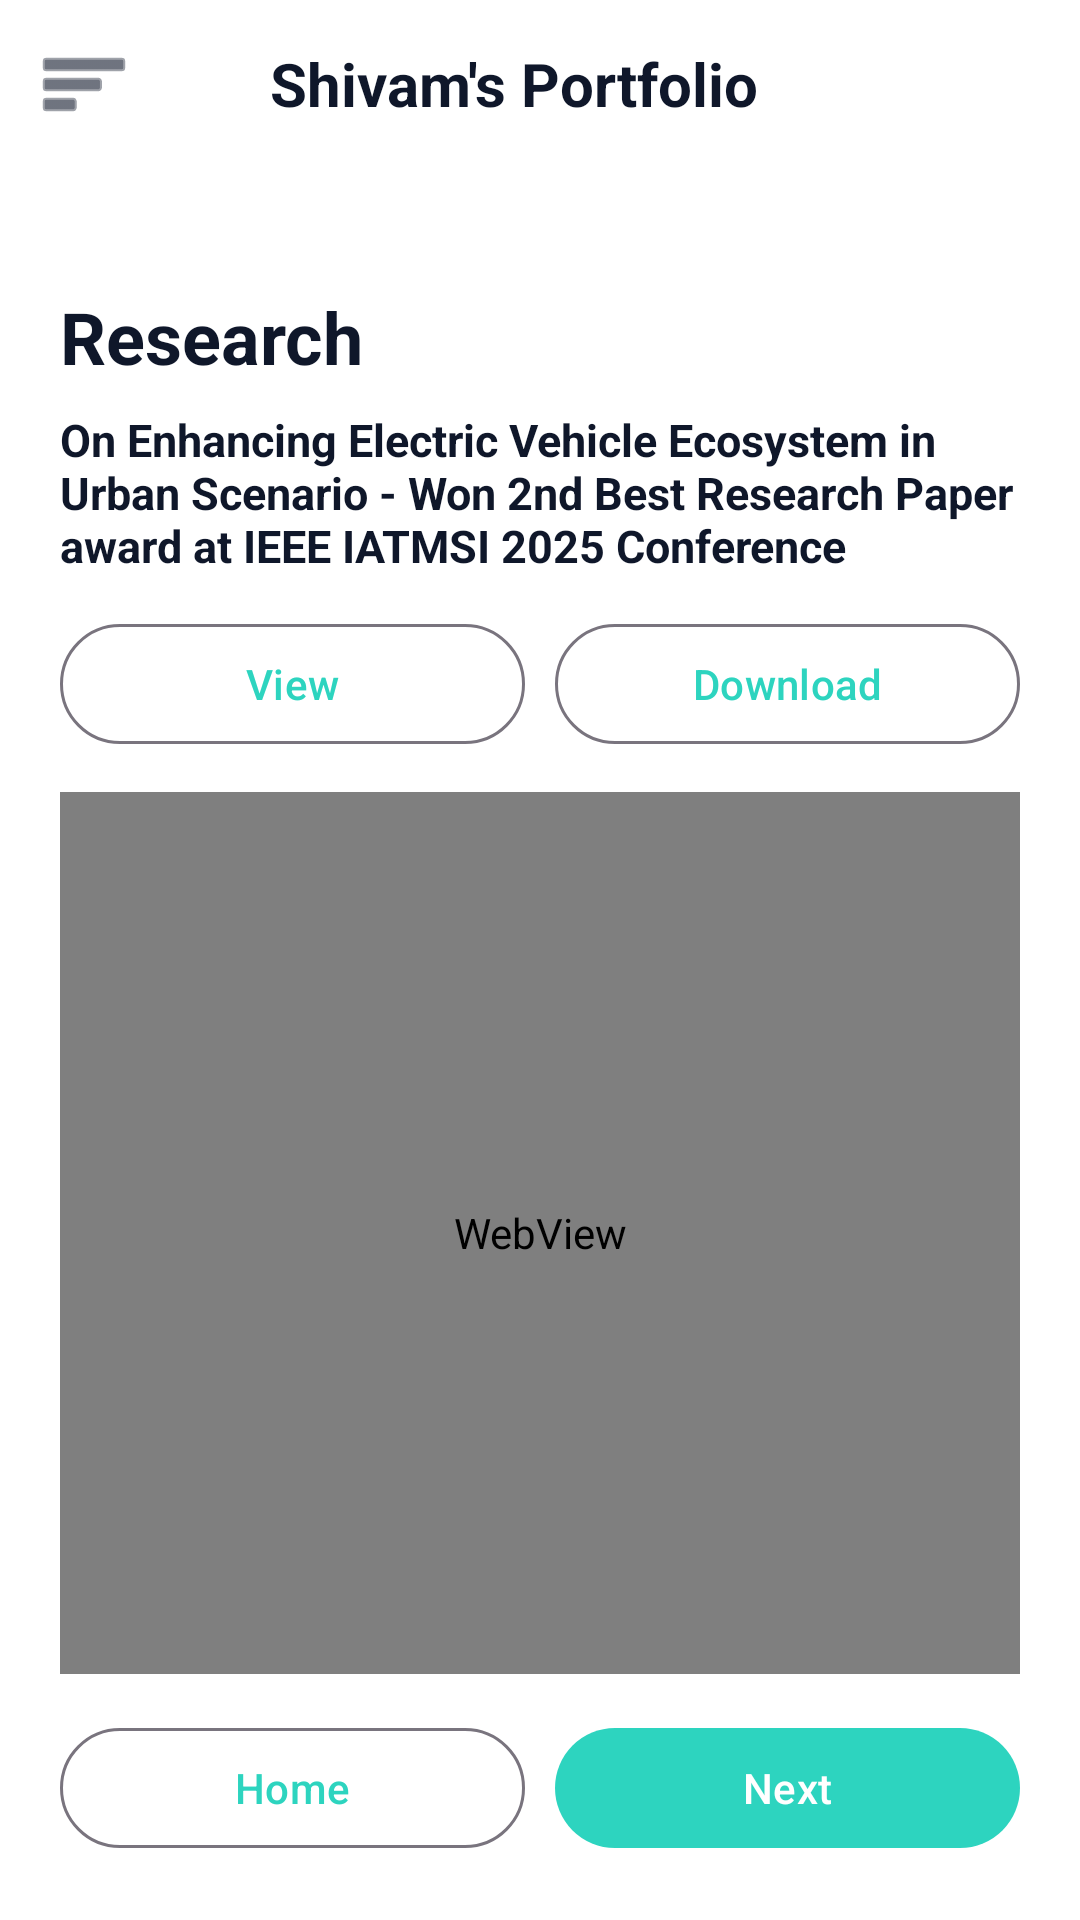

Screen size 1080px x 1920px. Icon name, then its center in pixels as (x,y):
Open navigation: (84,84)
